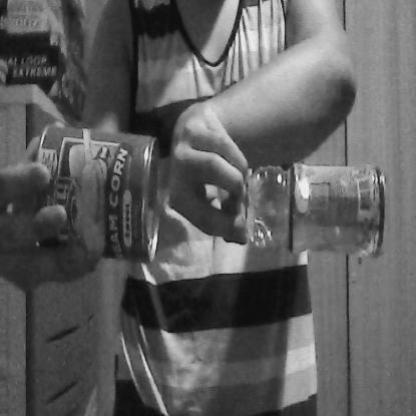Plastic Bottle: (211, 143, 394, 275)
